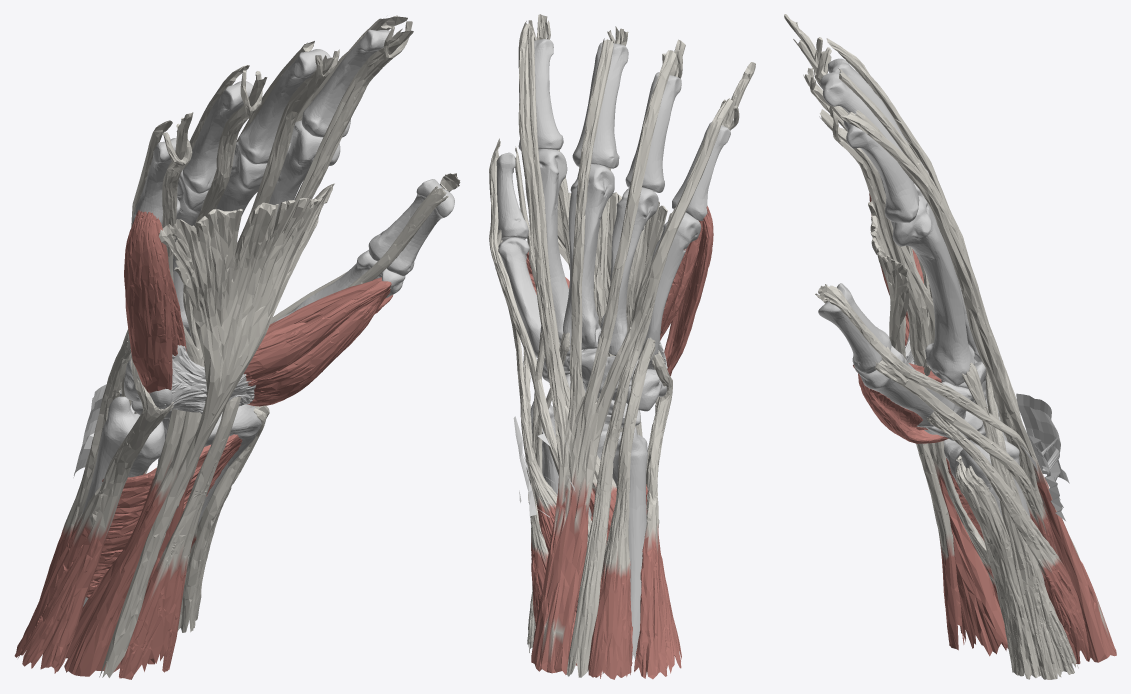
The model's file is simple.glb.
The picture shows the model from 3 angles, left to right: view 1: azimuth 30°, elevation 25°; view 2: azimuth 150°, elevation 25°; view 3: azimuth 270°, elevation 25°; orthographic projection. The views are drawn at different scales.
Parts seen in each view (by area): view 1: flex__pl, flex__fds, flex__fcu, flex__fcr, intr__adm, flex__fdp, intr__fpb, intr__apb, ext__br, flex__pq, bone__pp3, bone__ulna (+15 smaller); view 2: ext__ed, ext__ecu, flex__fcu, ext__edm, bone__mc3, bone__ulna, flex__fdp, ext__ei, ext__epl, bone__mc2, bone__pp3, bone__mc4 (+20 smaller); view 3: ext__ed, flex__fds, bone__mc2, ext__br, ext__apl, ext__ecrl, flex__fdp, ext__epb, ext__epl, flex__fcr, bone__pp2, ret__extret (+11 smaller).
Part boxes in pixels (box(x1,y1,x2,y2)): flex__pl: box(99, 183, 334, 677); flex__fds: box(64, 21, 412, 676); flex__fcu: box(14, 355, 173, 673); flex__fcr: box(119, 396, 241, 679); intr__adm: box(124, 210, 172, 393); flex__fdp: box(66, 28, 413, 658); intr__fpb: box(244, 277, 391, 381); intr__apb: box(247, 288, 390, 406); ext__br: box(177, 405, 269, 632); flex__pq: box(86, 434, 242, 598); bone__pp3: box(238, 49, 330, 164); bone__ulna: box(82, 396, 164, 606); ext__ed: box(518, 21, 732, 674); ext__ecu: box(588, 337, 655, 679); flex__fcu: box(634, 350, 681, 679); ext__edm: box(566, 198, 680, 677); bone__mc3: box(563, 164, 614, 356); bone__ulna: box(612, 427, 647, 660); flex__fdp: box(537, 14, 755, 434); ext__ei: box(527, 26, 616, 544); ext__epl: box(489, 138, 591, 545); bone__mc2: box(524, 149, 568, 342); bone__pp3: box(572, 42, 628, 168); bone__mc4: box(597, 187, 658, 354); ext__ed: box(826, 38, 1116, 662); flex__fds: box(808, 37, 1008, 656); bone__mc2: box(891, 195, 974, 385); ext__br: box(955, 455, 1041, 679); ext__apl: box(927, 411, 1090, 664); ext__ecrl: box(962, 362, 1061, 679); flex__fdp: box(784, 14, 1006, 650); ext__epb: box(874, 346, 1056, 553); ext__epl: box(823, 285, 1057, 555); flex__fcr: box(916, 358, 965, 650); bone__pp2: box(843, 113, 919, 222); ret__extret: box(1016, 393, 1069, 520).
Bounding box in the file's own units: 5.5 × 10.4 × 5.09.
